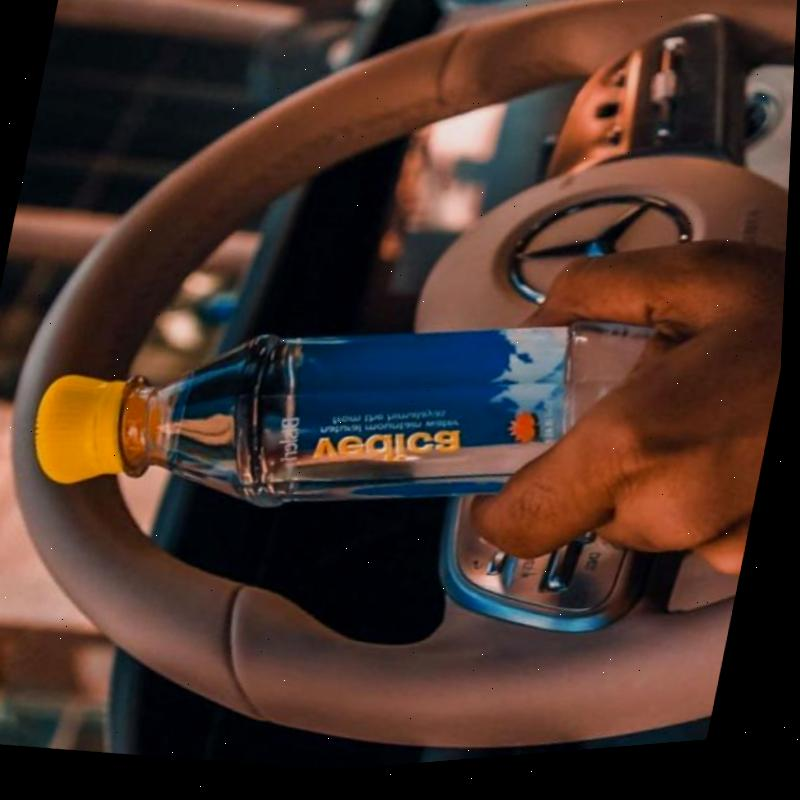botella: (19, 238, 707, 593)
